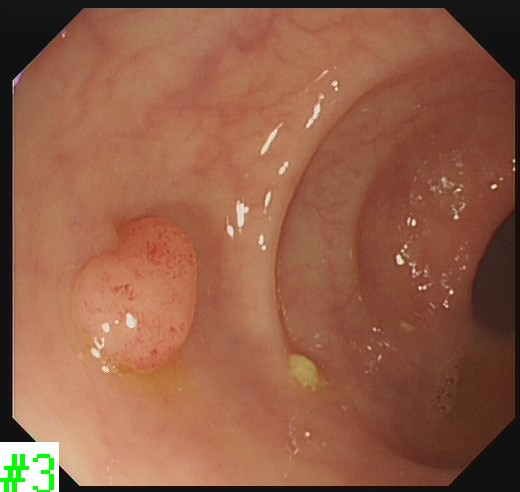adenoma: (71, 214, 201, 377)
